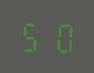five: (19, 19, 45, 52)
zero: (46, 19, 72, 53)
